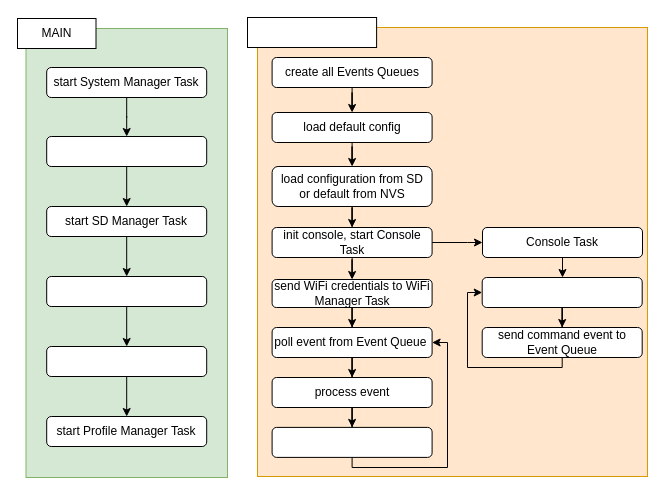
This 665x495 diagram has some shape labels left out. The shapes that lost their labels are listed below. From the top down, each one's centre as x and y in pixels, then its label:
At (311,32): "System Manager Task".
At (126,151): "start UI Manager Task".
At (126,291): "start WiFi Manager Task".
At (561,292): "receive command".
At (126,361): "start Server Manager Task".
At (351,441): "send response to appropriate task".
